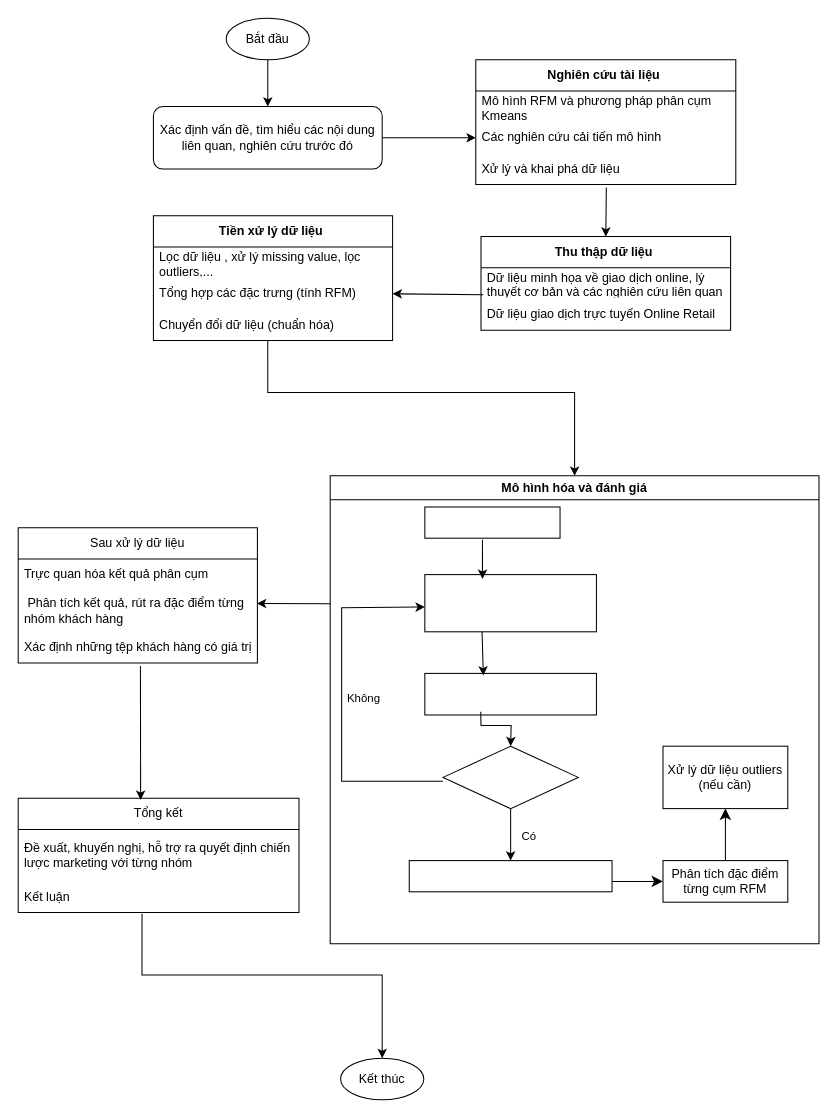
The diagram is 837 pixels wide and 1118 high, and some of its shapes have lost their labels. The shapes that lost their labels are listed below. From the top down, each one's centre as x and y in pixels, then its label:
At [492,522]: "Dựng mô hình RFM".
At [510,603]: "Chọn tham số K và phân cụm dữ liệu bằng Kmeans".
At [510,693]: "Đánh giá kết quả phân cụm".
At [510,777]: "Đạt yêu cầu".
At [510,876]: "Đánh giá, phân tích các cụm".
